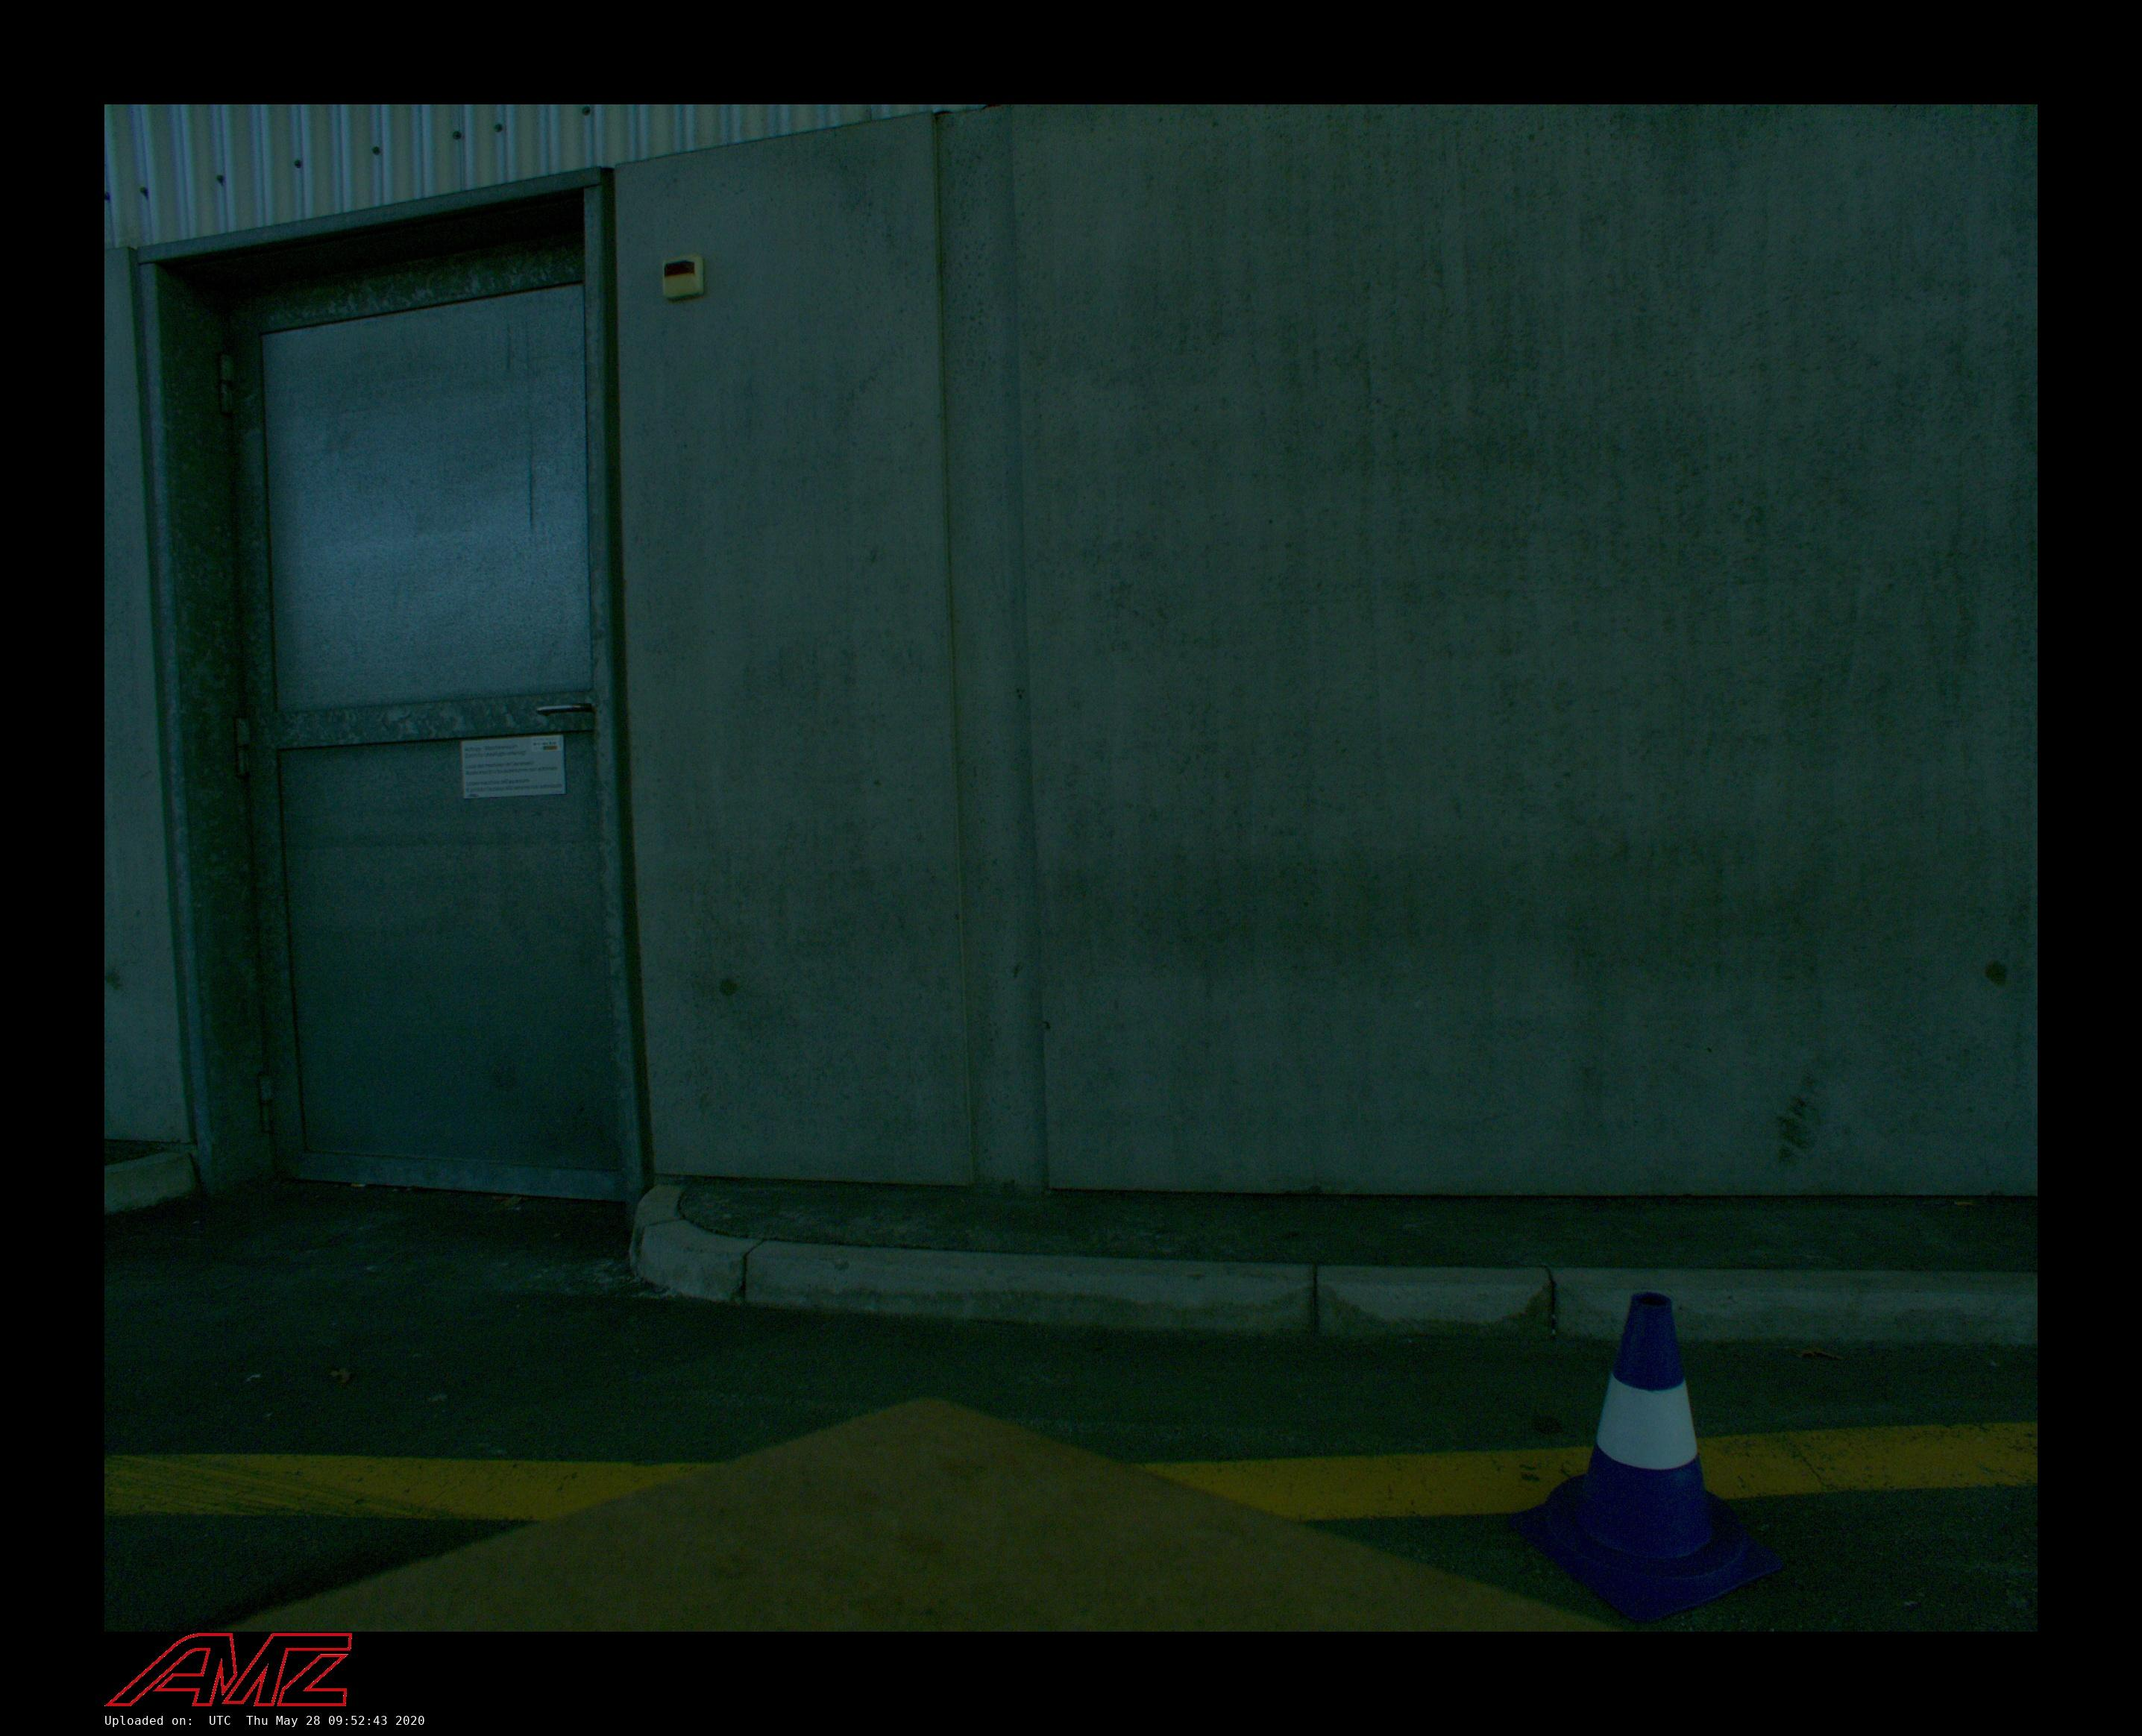blue_cone: (1513, 1291, 1789, 1626)
